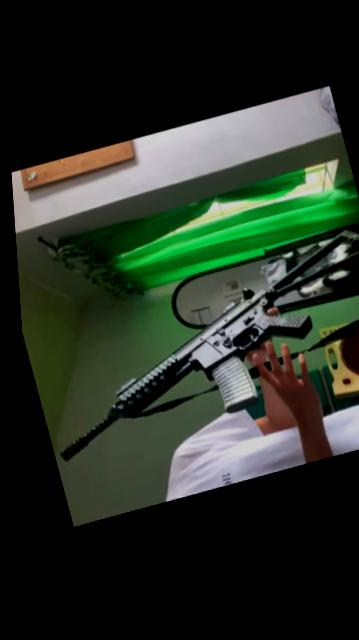rifle: (13, 224, 359, 463)
